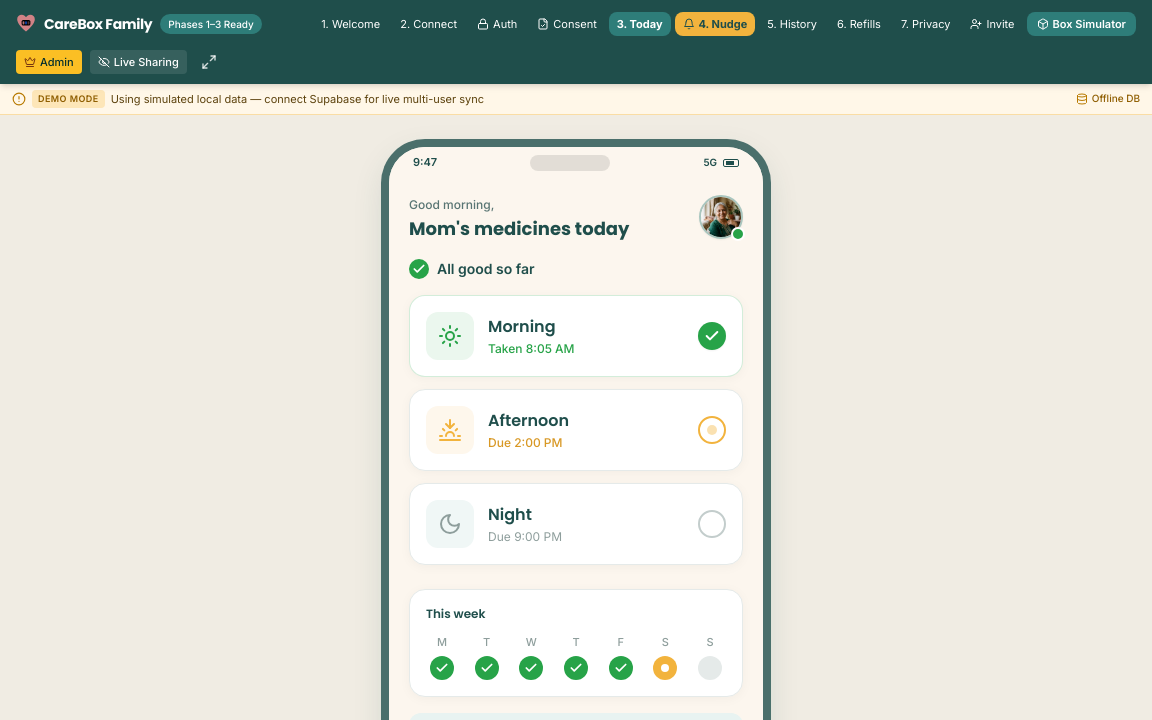
Test: Phase 3 Screens: Auth, Consent, and Family Invitation › blocks viewers from accessing admin screens in AppShell and displays Admin Access Required
Note: Switch to Viewer role
Click the button titled "Toggle RBAC Role" at (49, 62), box [16,50,82,74]
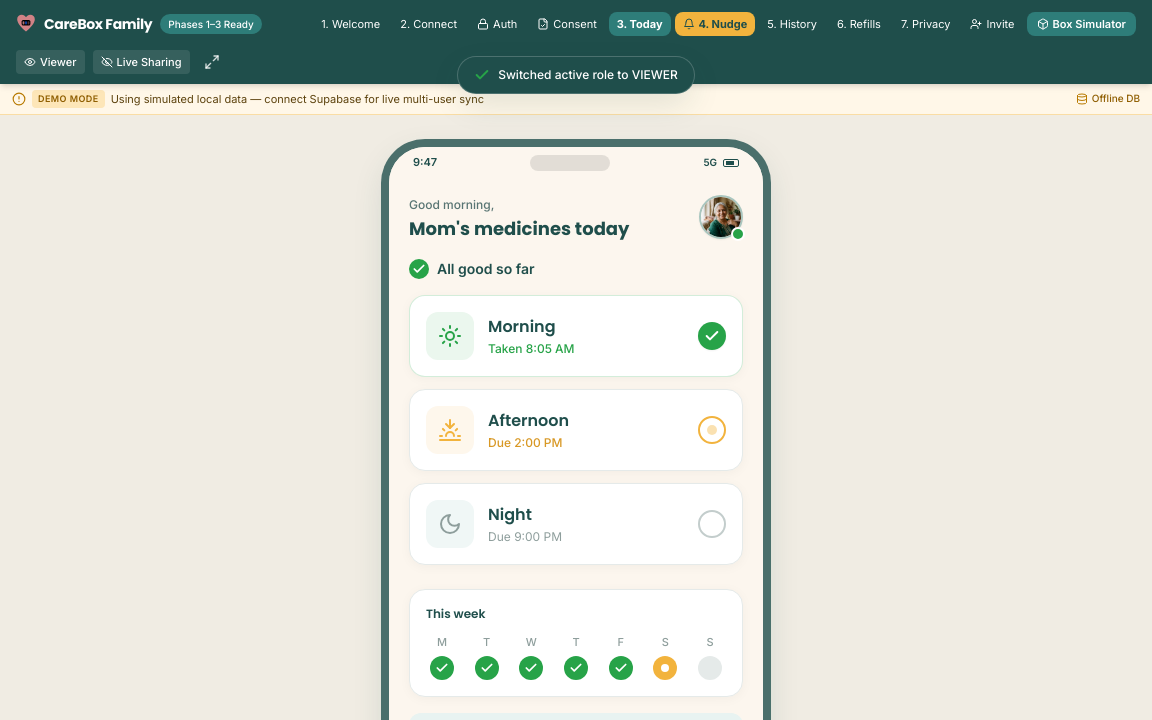
Note: Click Invite button
Click the button titled "Invite Family Member" at (992, 24), box [962,12,1022,36]
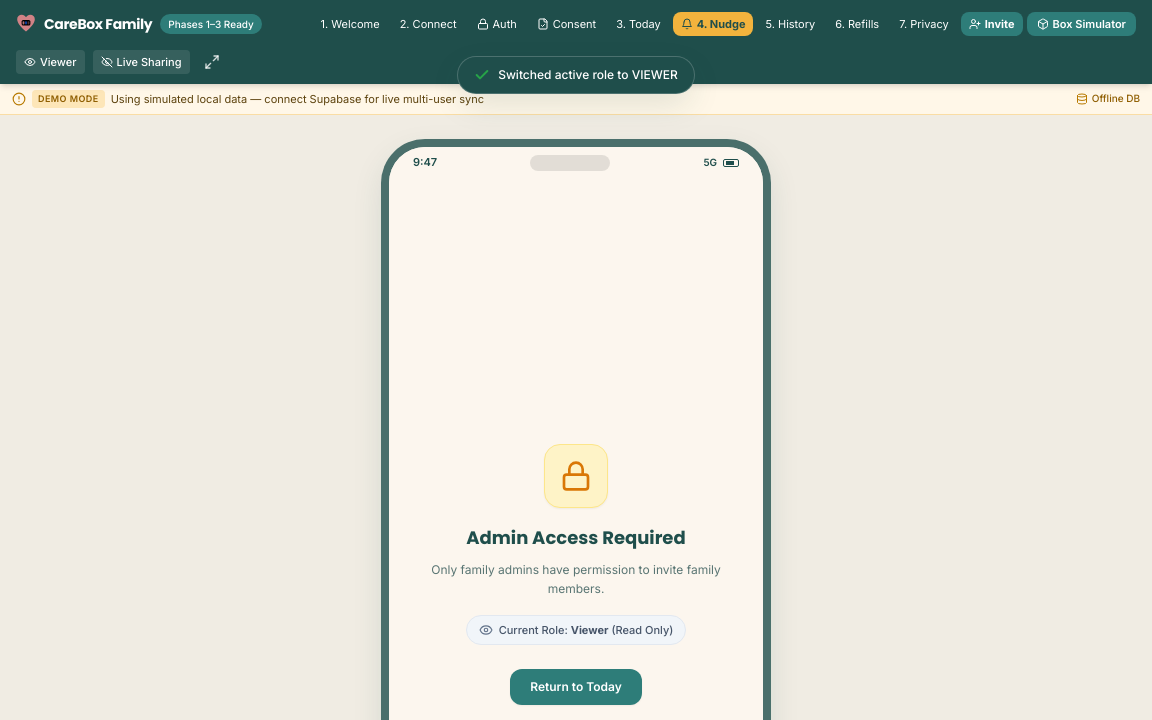
Now the heading "Admin Access Required" is shown, box [466,524,686,552]
Now the text "Only family admins have permission to invite family members." is shown, box [416,560,736,599]
